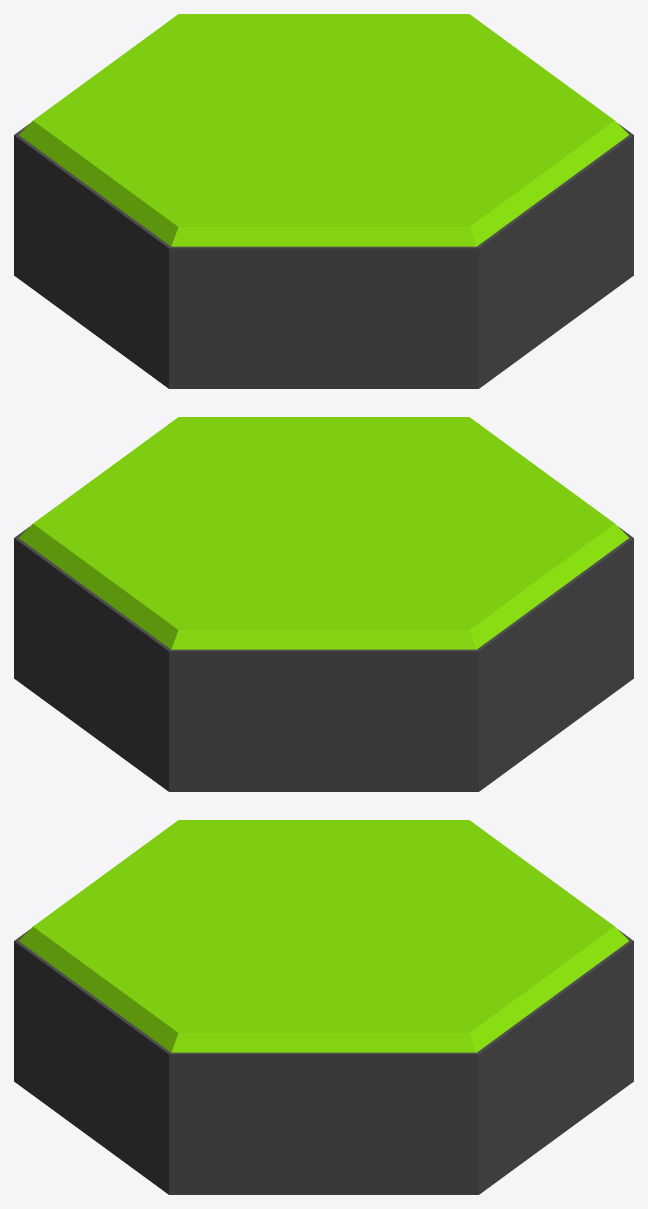
Rendered from SM_HexMesh.fbx.
The picture shows the model from 3 angles, top to bottom: view 1: azimuth 30°, elevation 25°; view 2: azimuth 150°, elevation 25°; view 3: azimuth 270°, elevation 25°; orthographic projection.
Visible parts, largest first — view 1: Tile; view 2: Tile; view 3: Tile.
Boxes of the visible parts, <box> form: Tile: <box>14,14,633,388</box>; Tile: <box>14,417,633,791</box>; Tile: <box>14,820,633,1194</box>.
Size of the model in its own units: 200 by 173 by 55.15.
